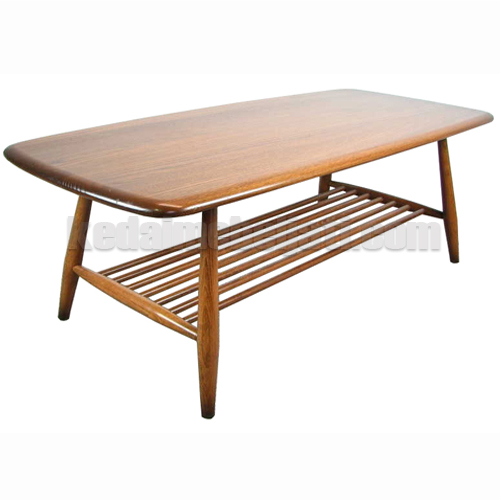Carving Table: (26, 97, 482, 413)
